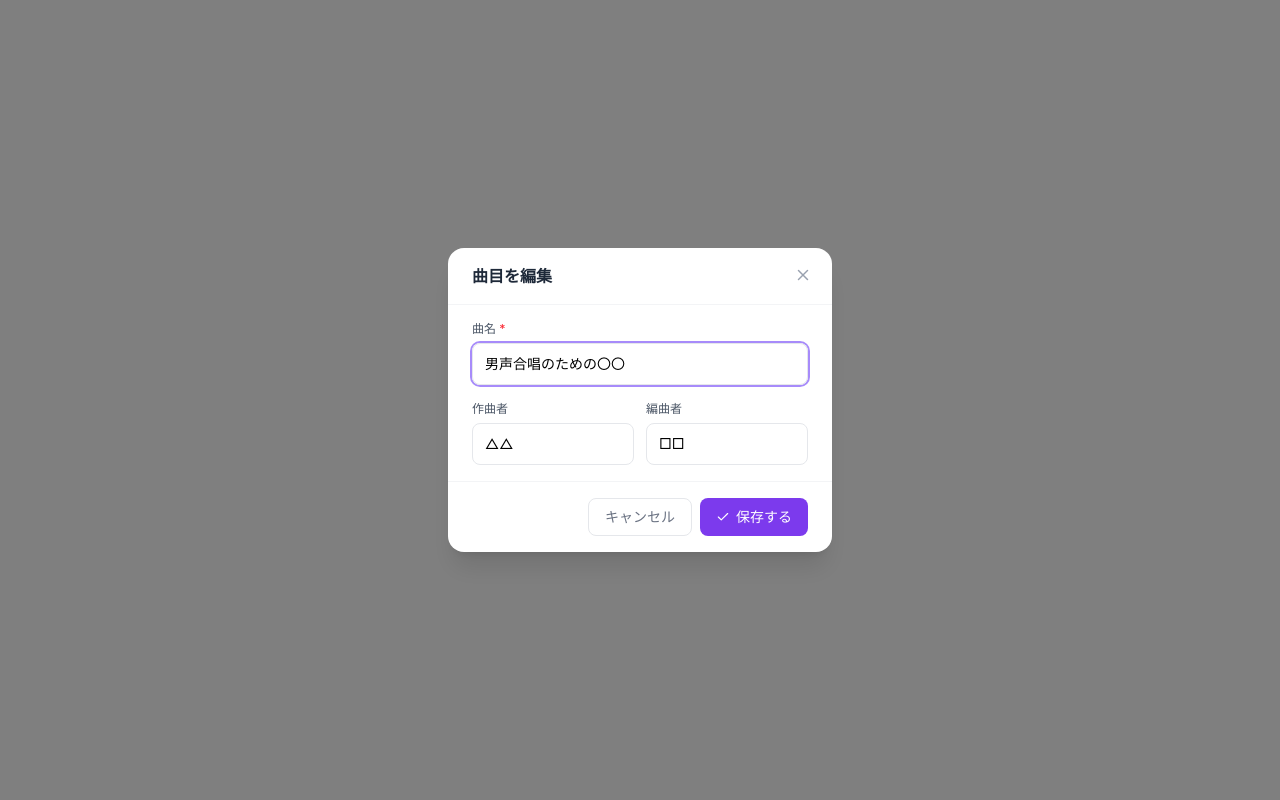
Test: EditProgramModal › 送信失敗時はエラーメッセージを表示する
Click the button "保存する" at (754, 517), box [700,498,808,536]
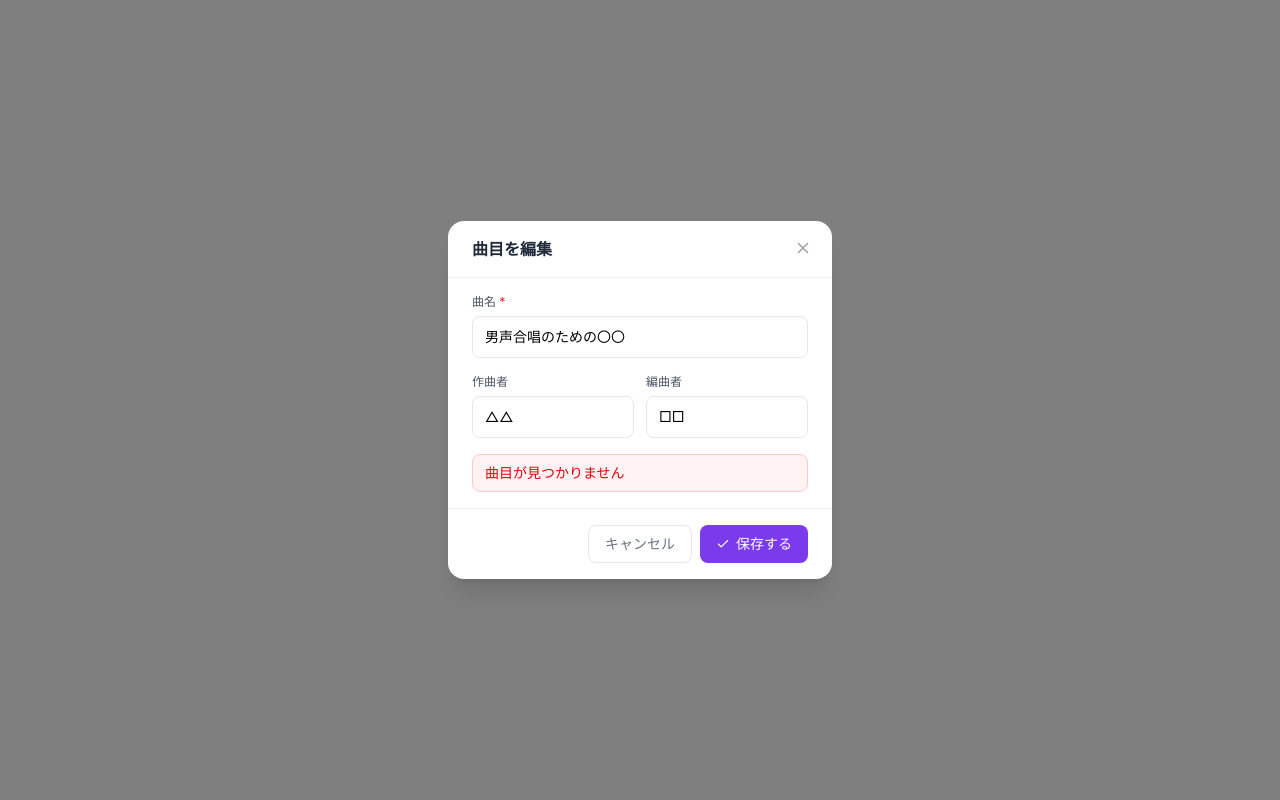
Result: the message reads "曲目が見つかりません" at [485,464,625,481]
